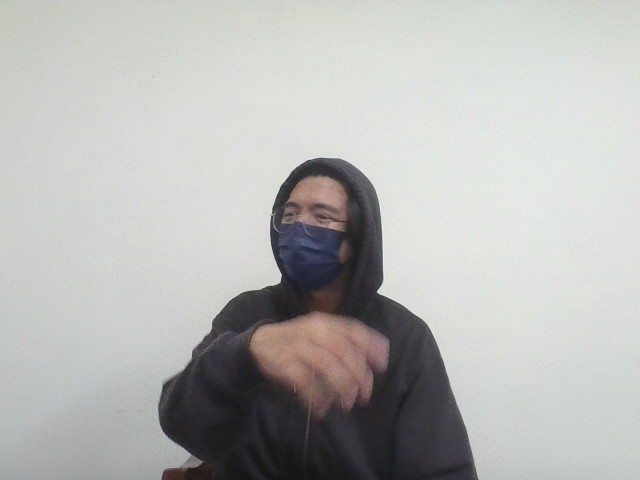No_Gloves: (250, 307, 386, 419)
No_Helmet: (266, 153, 383, 299)
person: (139, 137, 511, 479)
